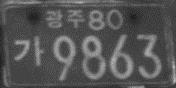0: (106, 8, 123, 32)
3: (136, 32, 162, 81)
6: (109, 33, 134, 82)
8: (80, 34, 107, 80), (87, 9, 105, 32)
9: (52, 35, 77, 81)
가: (14, 35, 45, 68)
광주_O: (44, 8, 85, 29)
